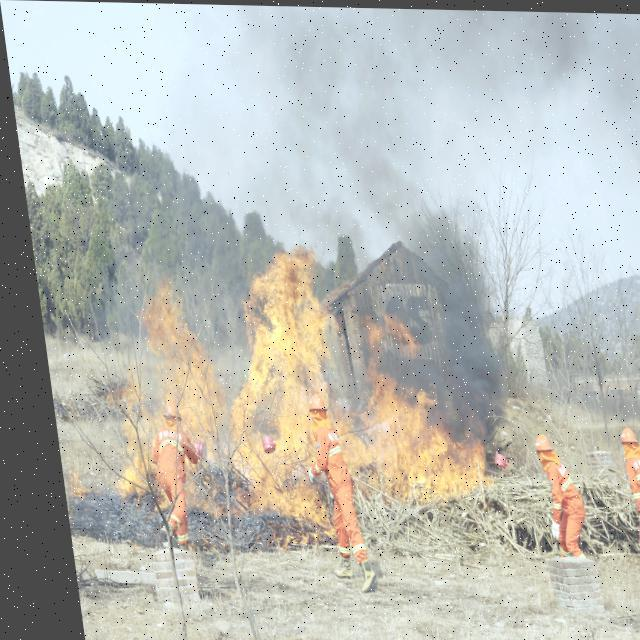Fire: (84, 246, 485, 542)
